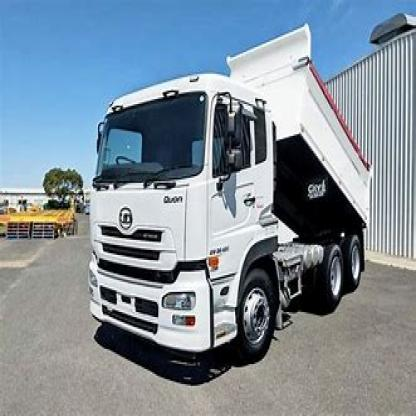dump_truck: (79, 20, 372, 379)
